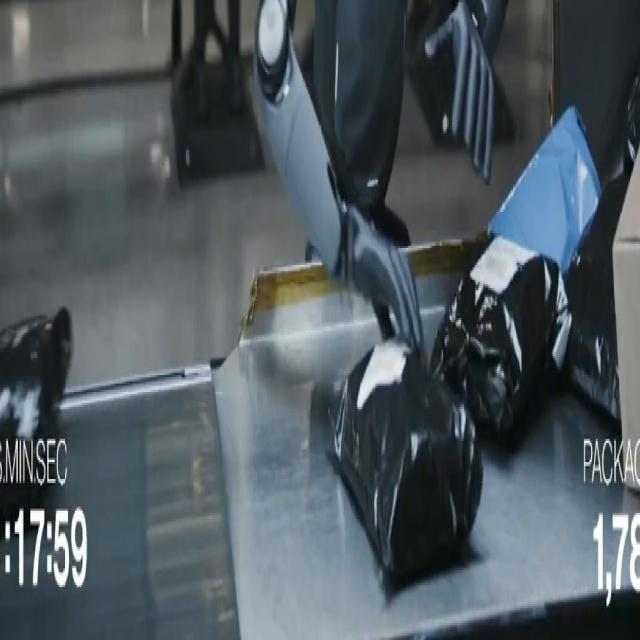package: (335, 340, 482, 582), (430, 238, 571, 442), (489, 109, 600, 273), (565, 172, 629, 421), (0, 308, 71, 519), (613, 164, 639, 489)
